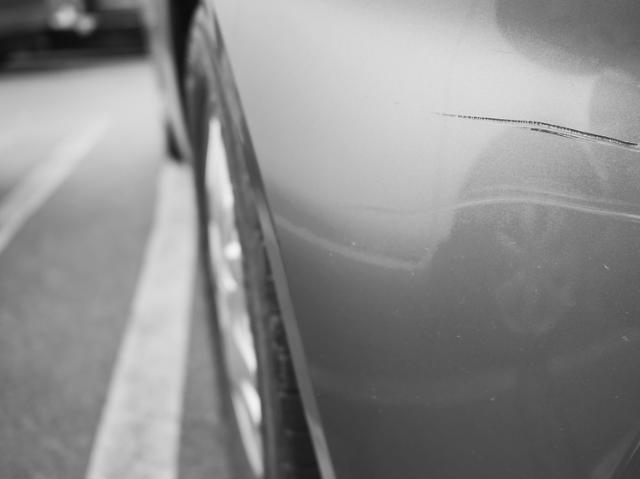Bumper: (407, 90, 640, 259)
